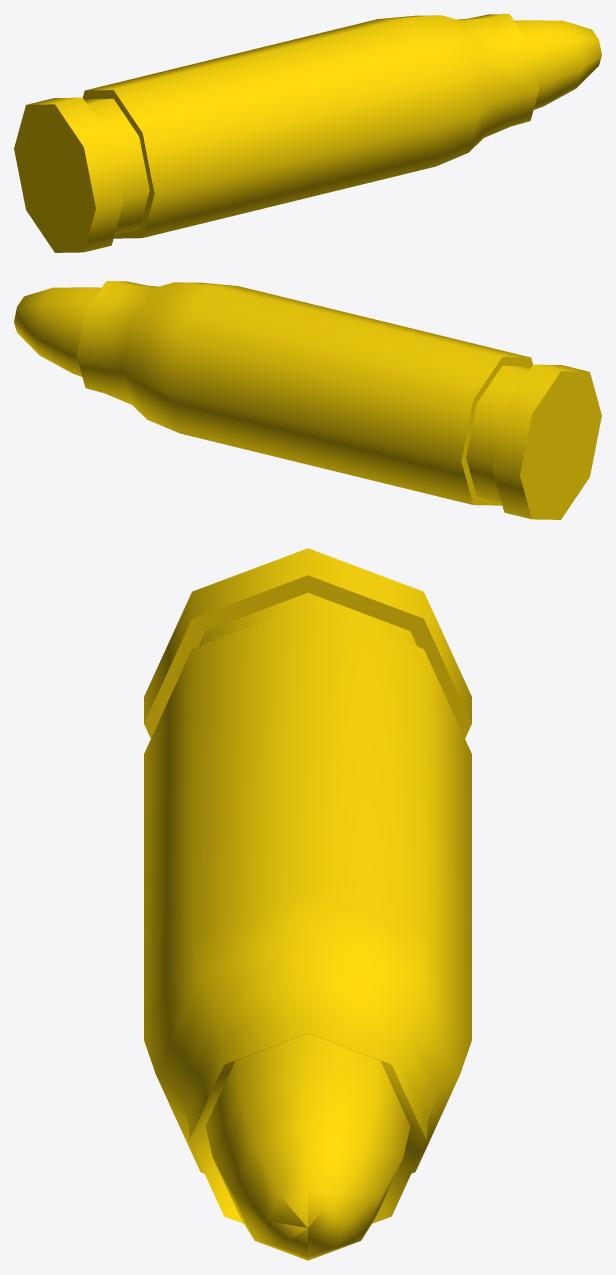
File: bullet.FBX
The picture shows the model from 3 angles, top to bottom: view 1: azimuth 30°, elevation 25°; view 2: azimuth 150°, elevation 25°; view 3: azimuth 270°, elevation 25°; orthographic projection. The views are drawn at different scales.
Visible parts, largest first — view 1: Line001; view 2: Line001; view 3: Line001.
Boxes of the visible parts, x1,y1,x2,y2 form: Line001: (14, 14, 601, 252); Line001: (14, 281, 601, 519); Line001: (144, 548, 471, 1260).
Bounding box in the file's own units: 115 × 30 × 30.
